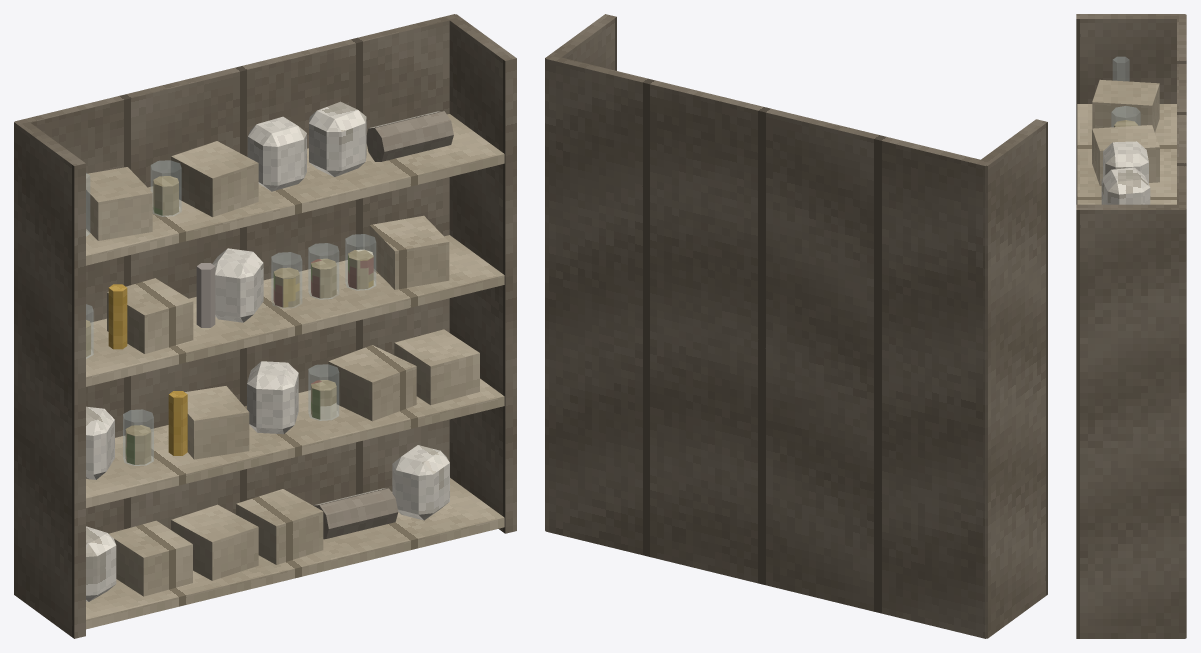
Rendered from shop_shelf.glb.
3 views of the same model, side by side, from view 1: azimuth 30°, elevation 25°; view 2: azimuth 150°, elevation 25°; view 3: azimuth 270°, elevation 25° (orthographic). The views are drawn at different scales.
Visible parts, largest first — view 1: body; view 2: body; view 3: body.
Part boxes in pixels (x1,y1,x2,y2): body: [14, 14, 516, 638]; body: [545, 14, 1047, 638]; body: [1076, 14, 1186, 638].
Bounding box in the file's own units: 1.91 × 1.95 × 0.455.
Materials: 8 (6 with a texture image).
